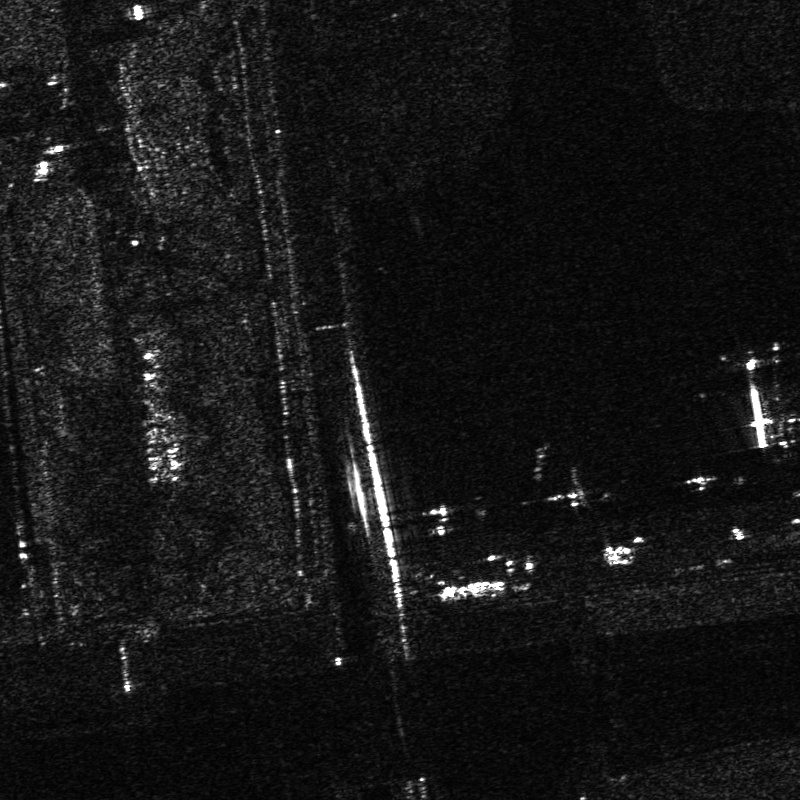Boeing787: (693, 331, 799, 449)
